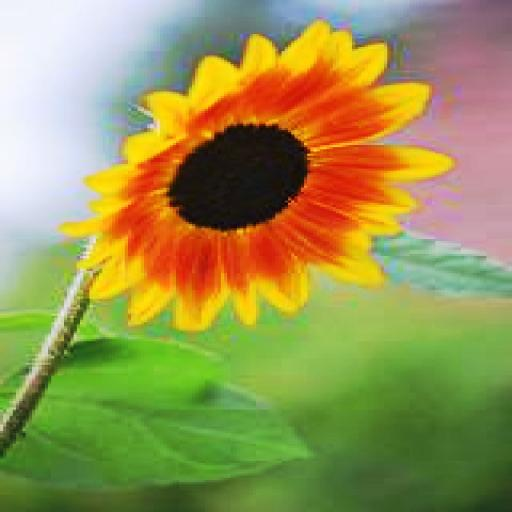sunflower: (64, 20, 454, 326)
